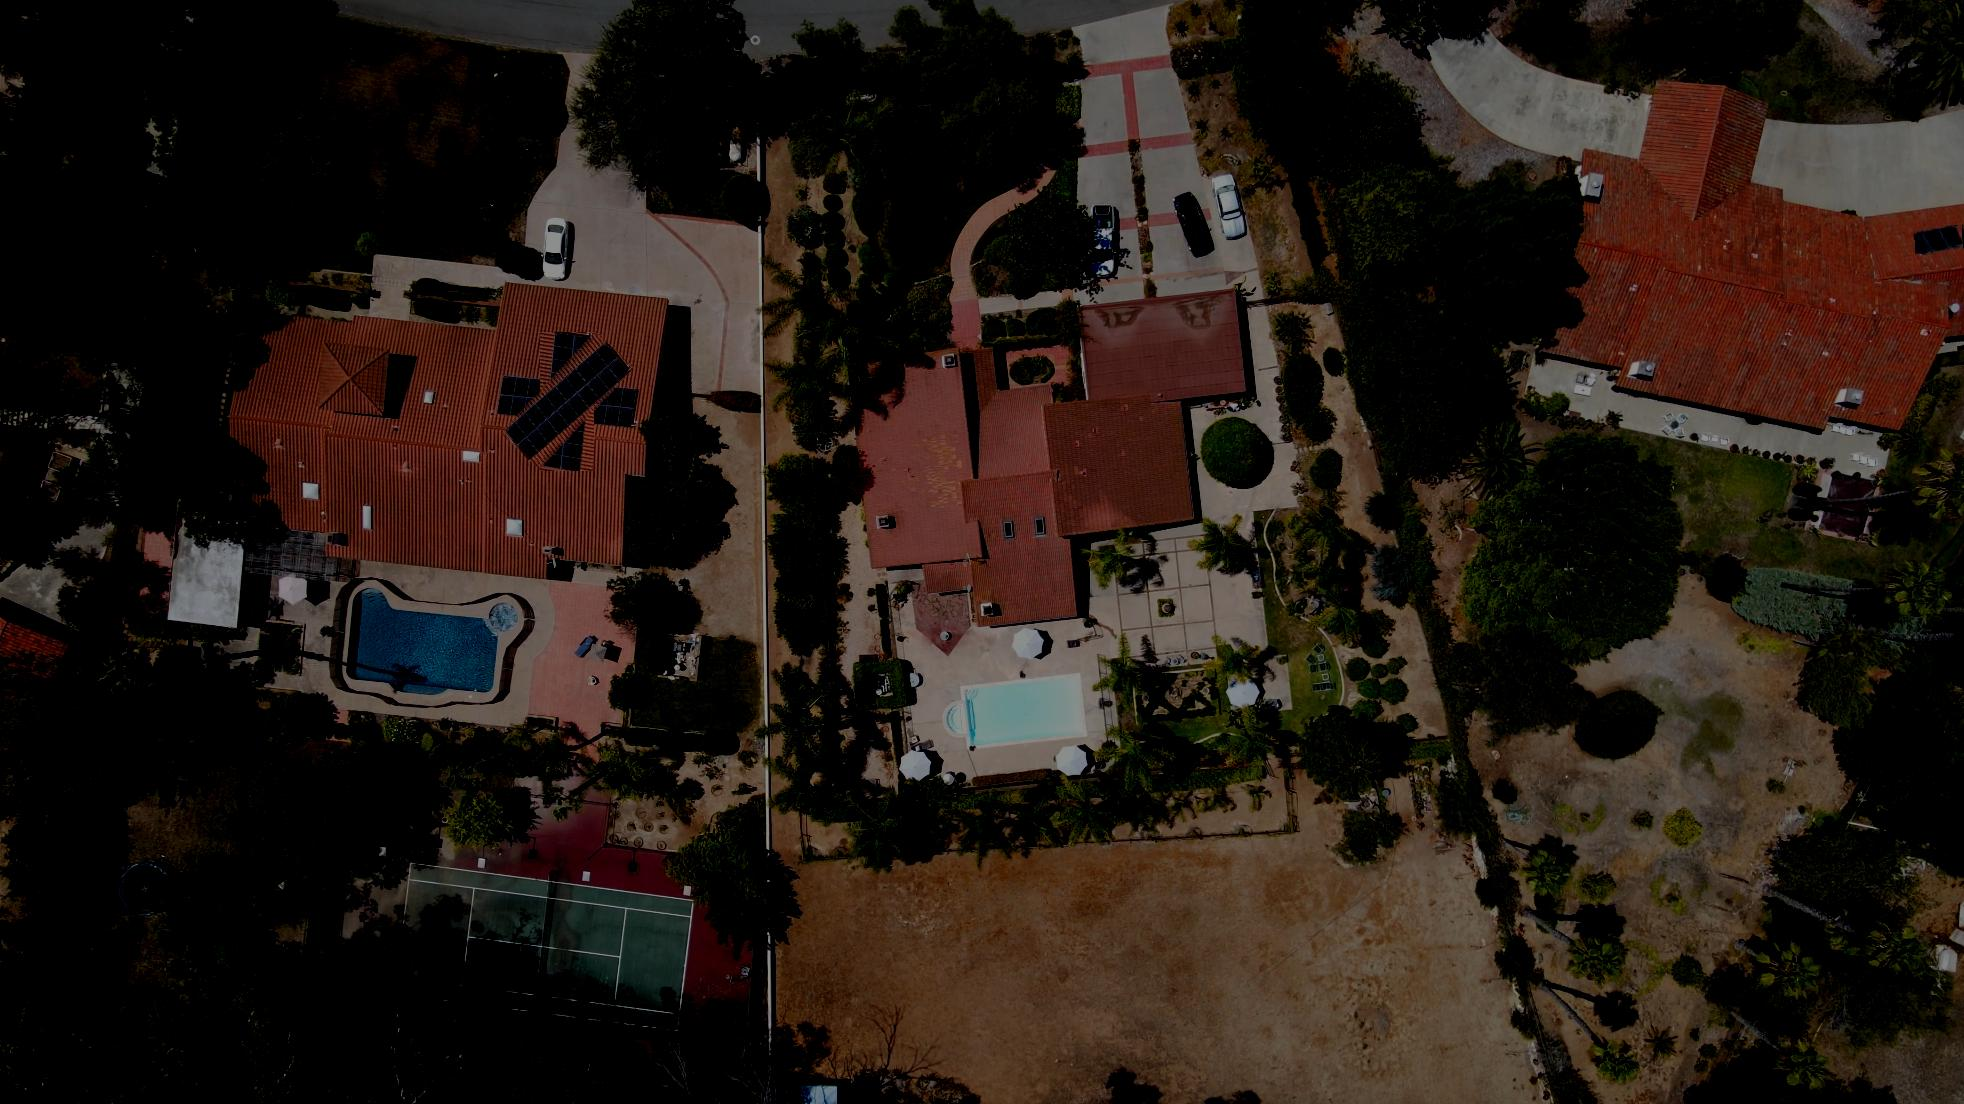solar-panels: (504, 341, 630, 460), (1914, 225, 1964, 254)
